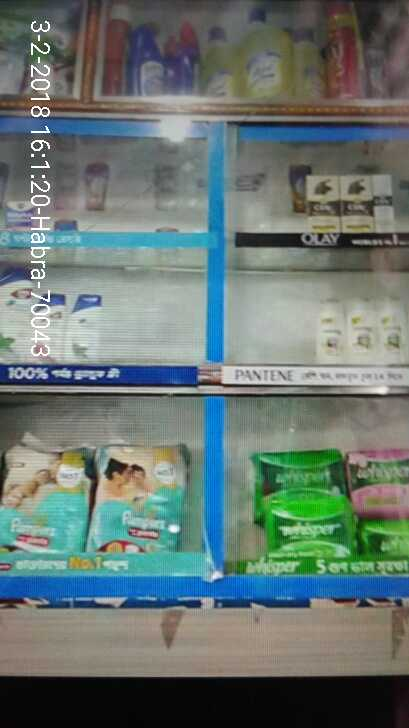vicks: (3, 197, 36, 236)
